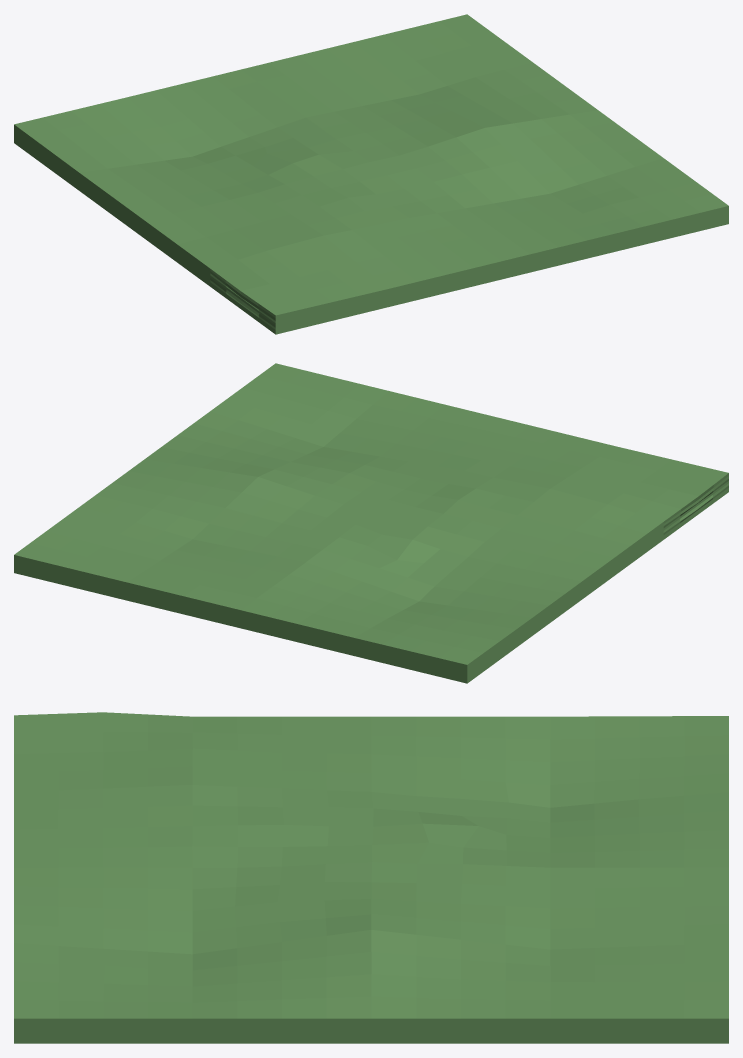
Rendered from ground.glb.
3 renders of one model, top to bottom at view 1: azimuth 30°, elevation 25°; view 2: azimuth 150°, elevation 25°; view 3: azimuth 270°, elevation 25°, orthographic. The views are drawn at different scales.
Parts seen in each view (by area): view 1: Cube; view 2: Cube; view 3: Cube.
Part boxes in pixels (x1,y1,x2,y2): Cube: (14,14,728,334); Cube: (14,363,728,683); Cube: (14,712,728,1043).
Size of the model in its own units: 8.14 by 0.479 by 8.1.
